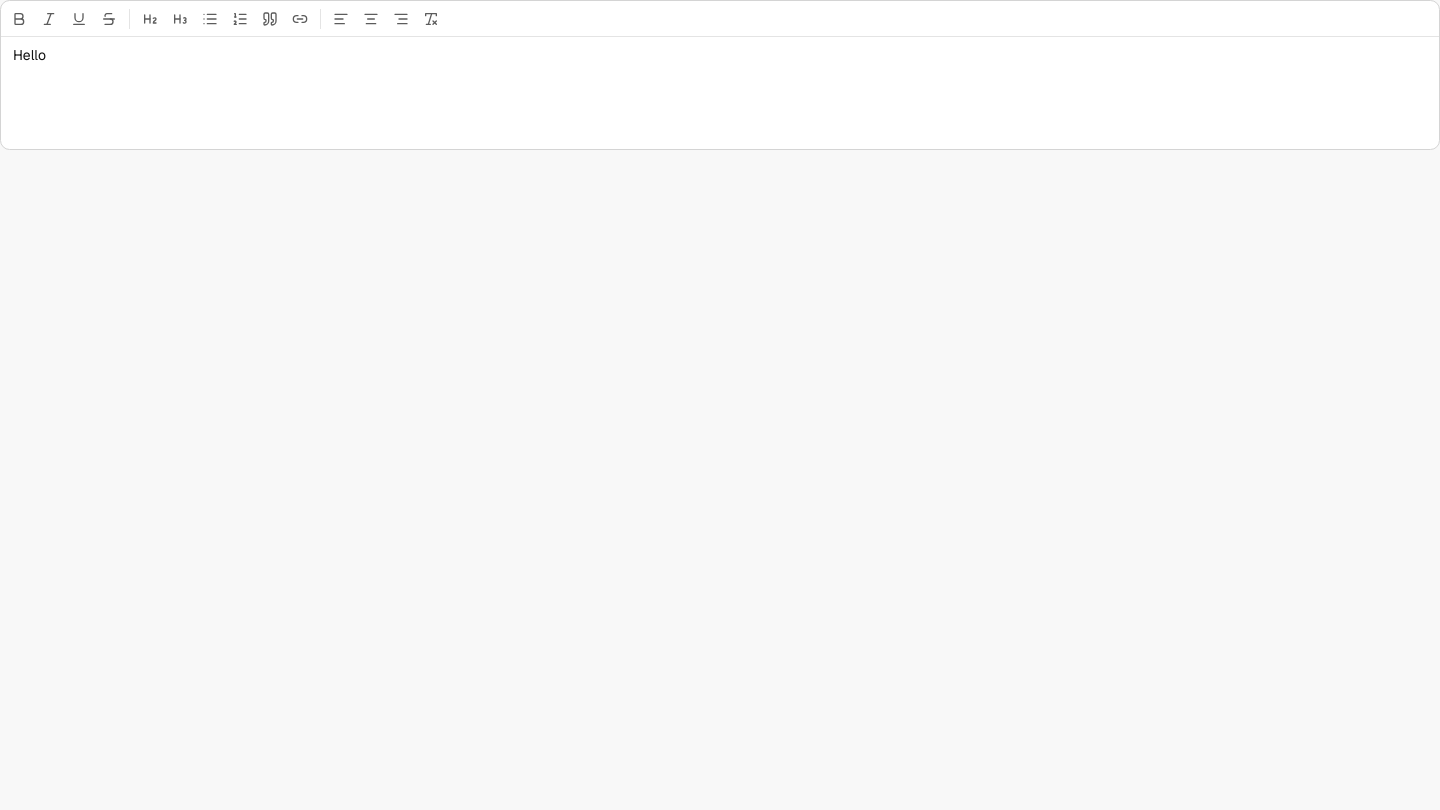
Test: rich text link dialog › opens an empty add-link dialog where there is no link yet
The image size is (1440, 810).
Click the button named "Link" at [300, 18], box [286, 4, 314, 32]
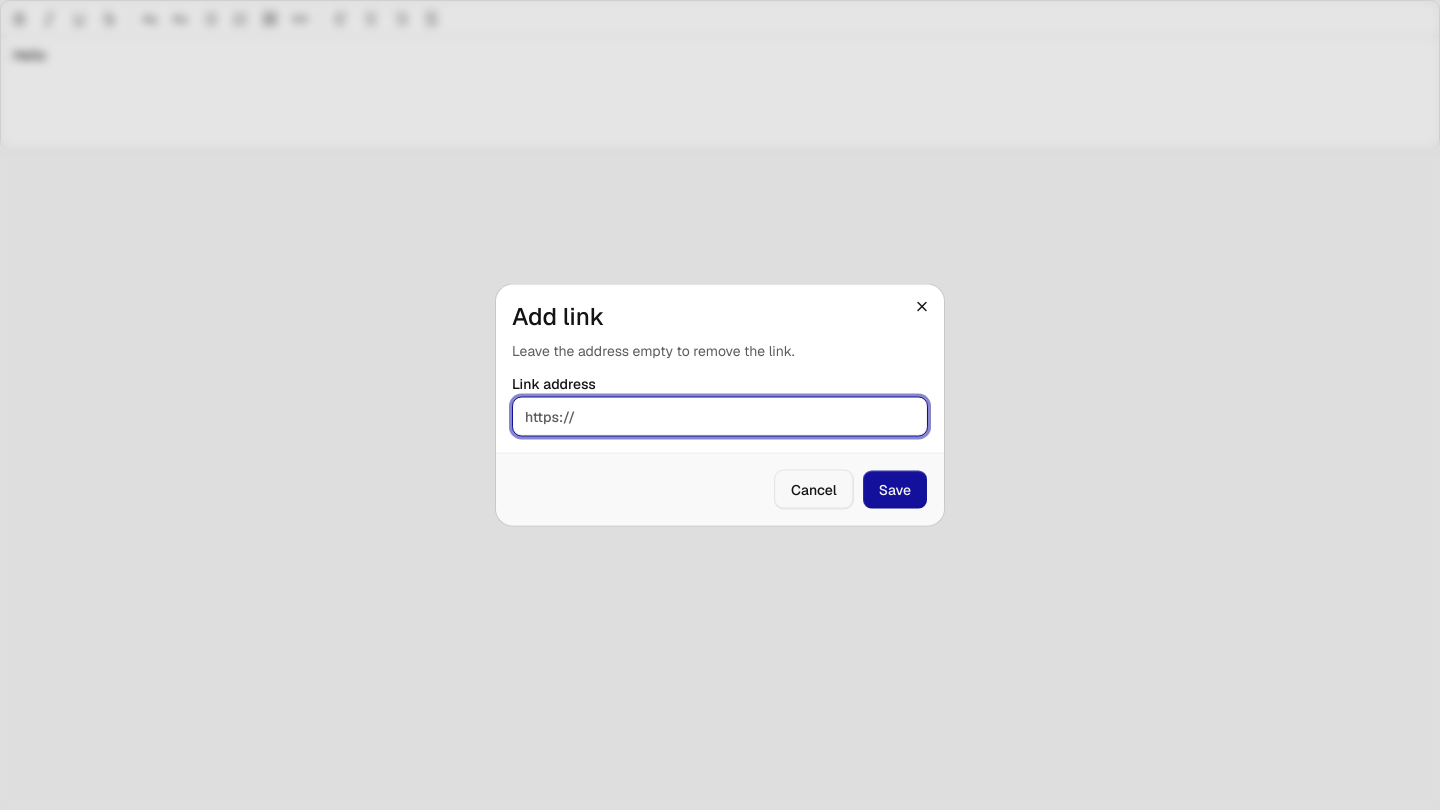
Now the heading "Add link" is shown, box [512, 300, 604, 332]
Now the field is empty, box [512, 396, 928, 436]
Click the button "Cancel" at [814, 490], box [774, 470, 854, 510]
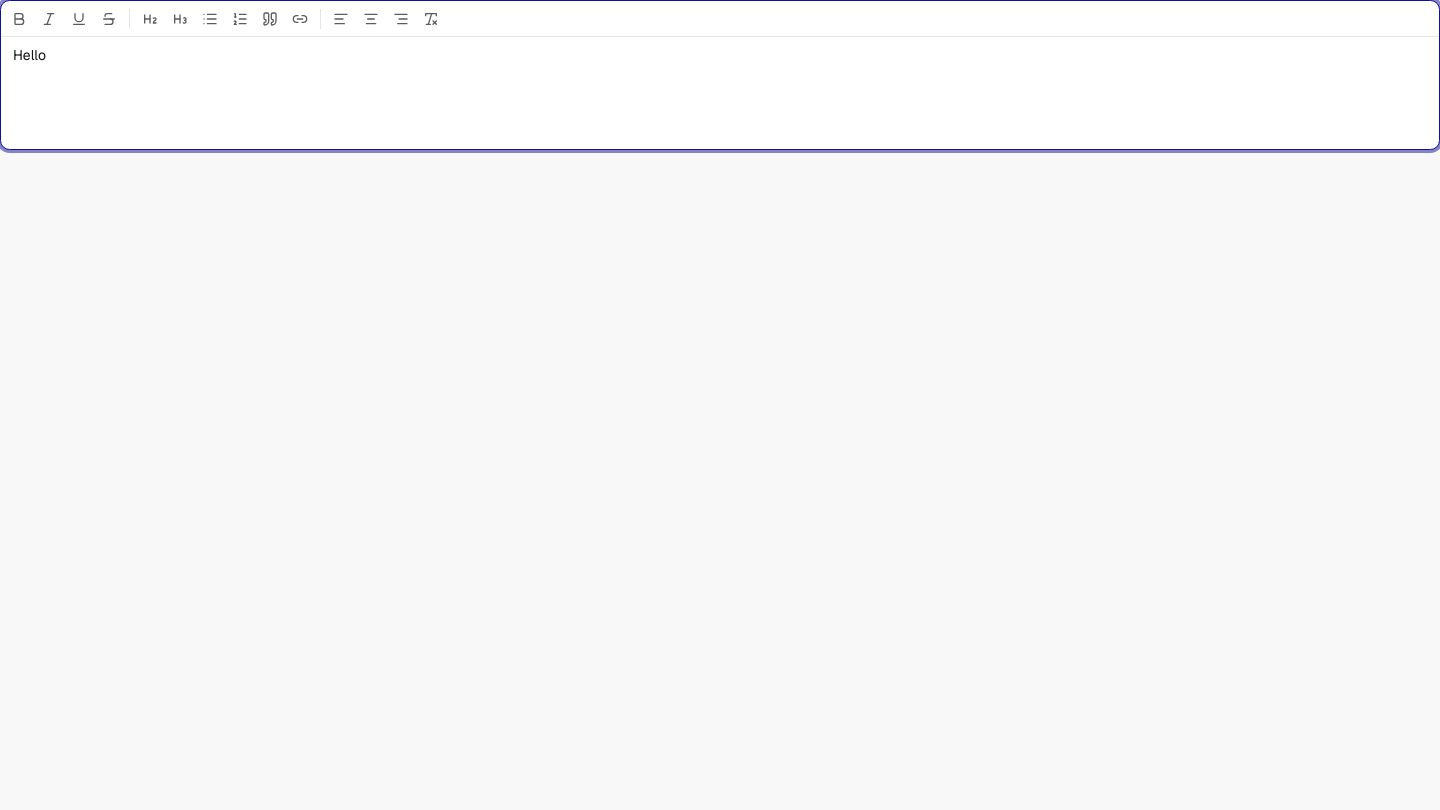
Now the dialog is gone
